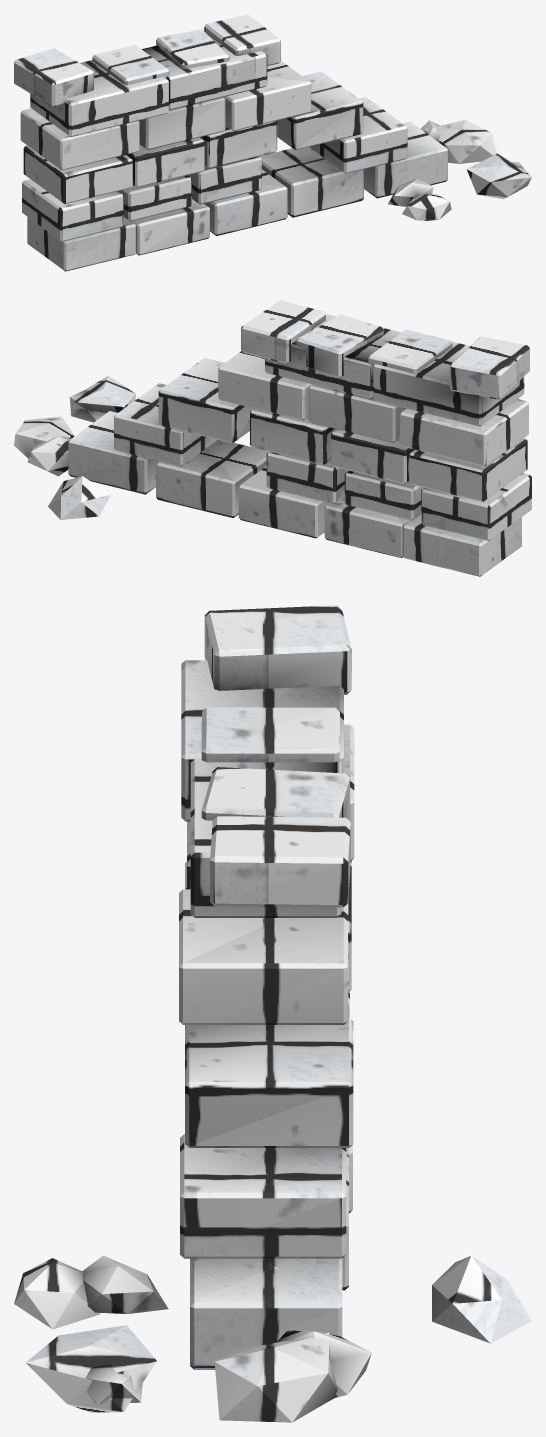
The picture shows the model from 3 angles, top to bottom: view 1: azimuth 30°, elevation 25°; view 2: azimuth 150°, elevation 25°; view 3: azimuth 270°, elevation 25°; orthographic projection. The views are drawn at different scales.
Visible parts, largest first — view 1: wall_M_stone_dark, wall_M_stone_light, wall_M_stone; view 2: wall_M_stone_light, wall_M_stone, wall_M_stone_dark; view 3: wall_M_stone_light, wall_M_stone_dark, wall_M_stone.
Part boxes in pixels (bbox=[...]): wall_M_stone_dark: bbox=[22, 45, 531, 255]; wall_M_stone_light: bbox=[23, 29, 407, 235]; wall_M_stone: bbox=[14, 14, 523, 271]; wall_M_stone_light: bbox=[48, 314, 527, 538]; wall_M_stone: bbox=[27, 300, 529, 576]; wall_M_stone_dark: bbox=[14, 329, 531, 557]; wall_M_stone_light: bbox=[179, 759, 531, 1343]; wall_M_stone_dark: bbox=[25, 660, 350, 1422]; wall_M_stone: bbox=[14, 605, 371, 1404].
Size of the model in its own units: 3.06 by 1.27 by 1.5.
3 materials, 3 textured.
